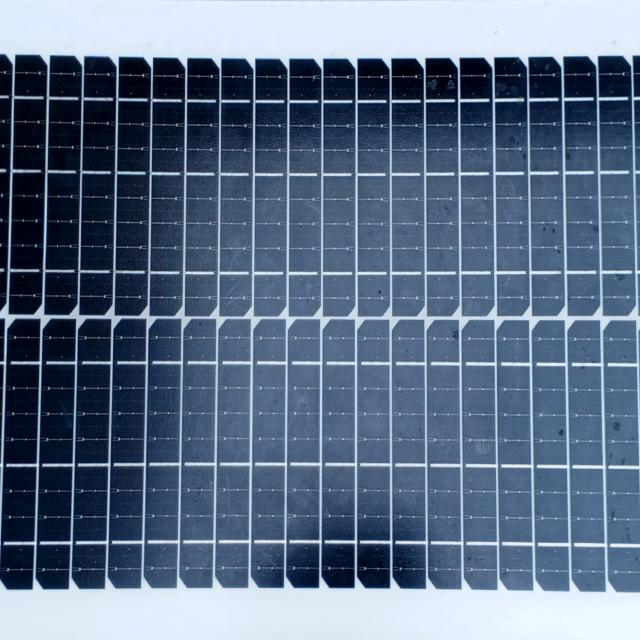Clean: (5, 21, 639, 620)
